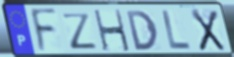D: (124, 9, 160, 52)
F: (29, 7, 59, 56)
H: (92, 9, 133, 53)
L: (160, 9, 192, 52)
X: (189, 8, 227, 52)
Z: (60, 12, 99, 50)
